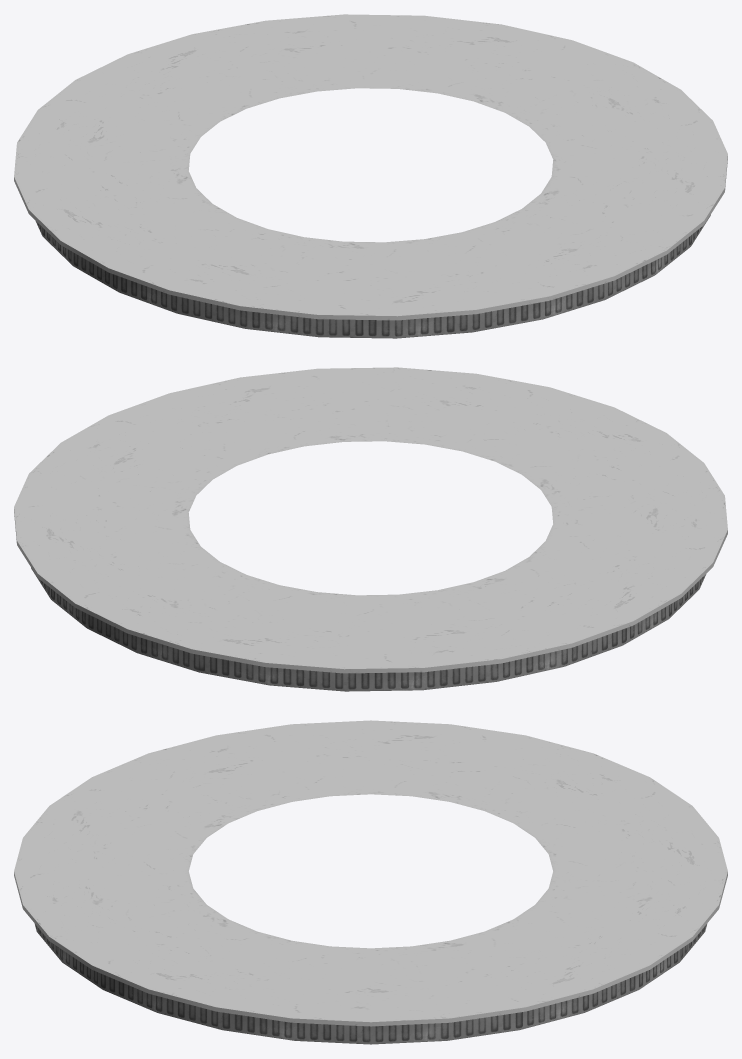
The model's file is SmallPlatform_Pod.fbx.
3 renders of one model, top to bottom at view 1: azimuth 30°, elevation 25°; view 2: azimuth 150°, elevation 25°; view 3: azimuth 270°, elevation 25°, orthographic.
Parts seen in each view (by area): view 1: SmallPlatform_Pod; view 2: SmallPlatform_Pod; view 3: SmallPlatform_Pod.
Part boxes in pixels (box(x1,y1,x2,y2)): SmallPlatform_Pod: box(14, 14, 727, 338); SmallPlatform_Pod: box(14, 367, 727, 691); SmallPlatform_Pod: box(14, 720, 727, 1044).
Size of the model in its own units: 8.25 by 0.3608 by 8.25.
